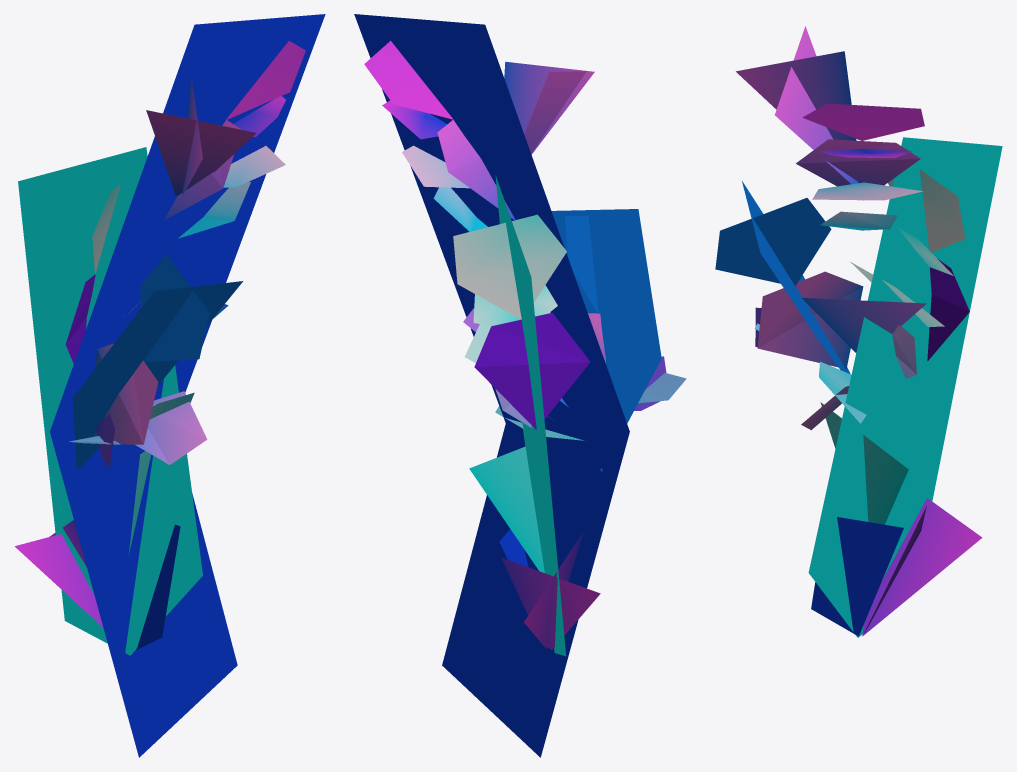
Rendered from Nordic_Coastal_Groundcover_vlqkdeaja_Mid_vlqkdeaja_VarI_LOD0.fbx.
3 renders of one model, left to right at view 1: azimuth 30°, elevation 25°; view 2: azimuth 150°, elevation 25°; view 3: azimuth 270°, elevation 25°, orthographic. The views are drawn at different scales.
Parts seen in each view (by area): view 1: _4wku_VarI_LOD1; view 2: _4wku_VarI_LOD1; view 3: _4wku_VarI_LOD1.
Boxes of the visible parts, bbox=[...] form: _4wku_VarI_LOD1: bbox=[14, 14, 325, 757]; _4wku_VarI_LOD1: bbox=[354, 14, 686, 757]; _4wku_VarI_LOD1: bbox=[715, 26, 1002, 637].
Bounding box in the file's own units: 10.55 × 25.14 × 8.47.
